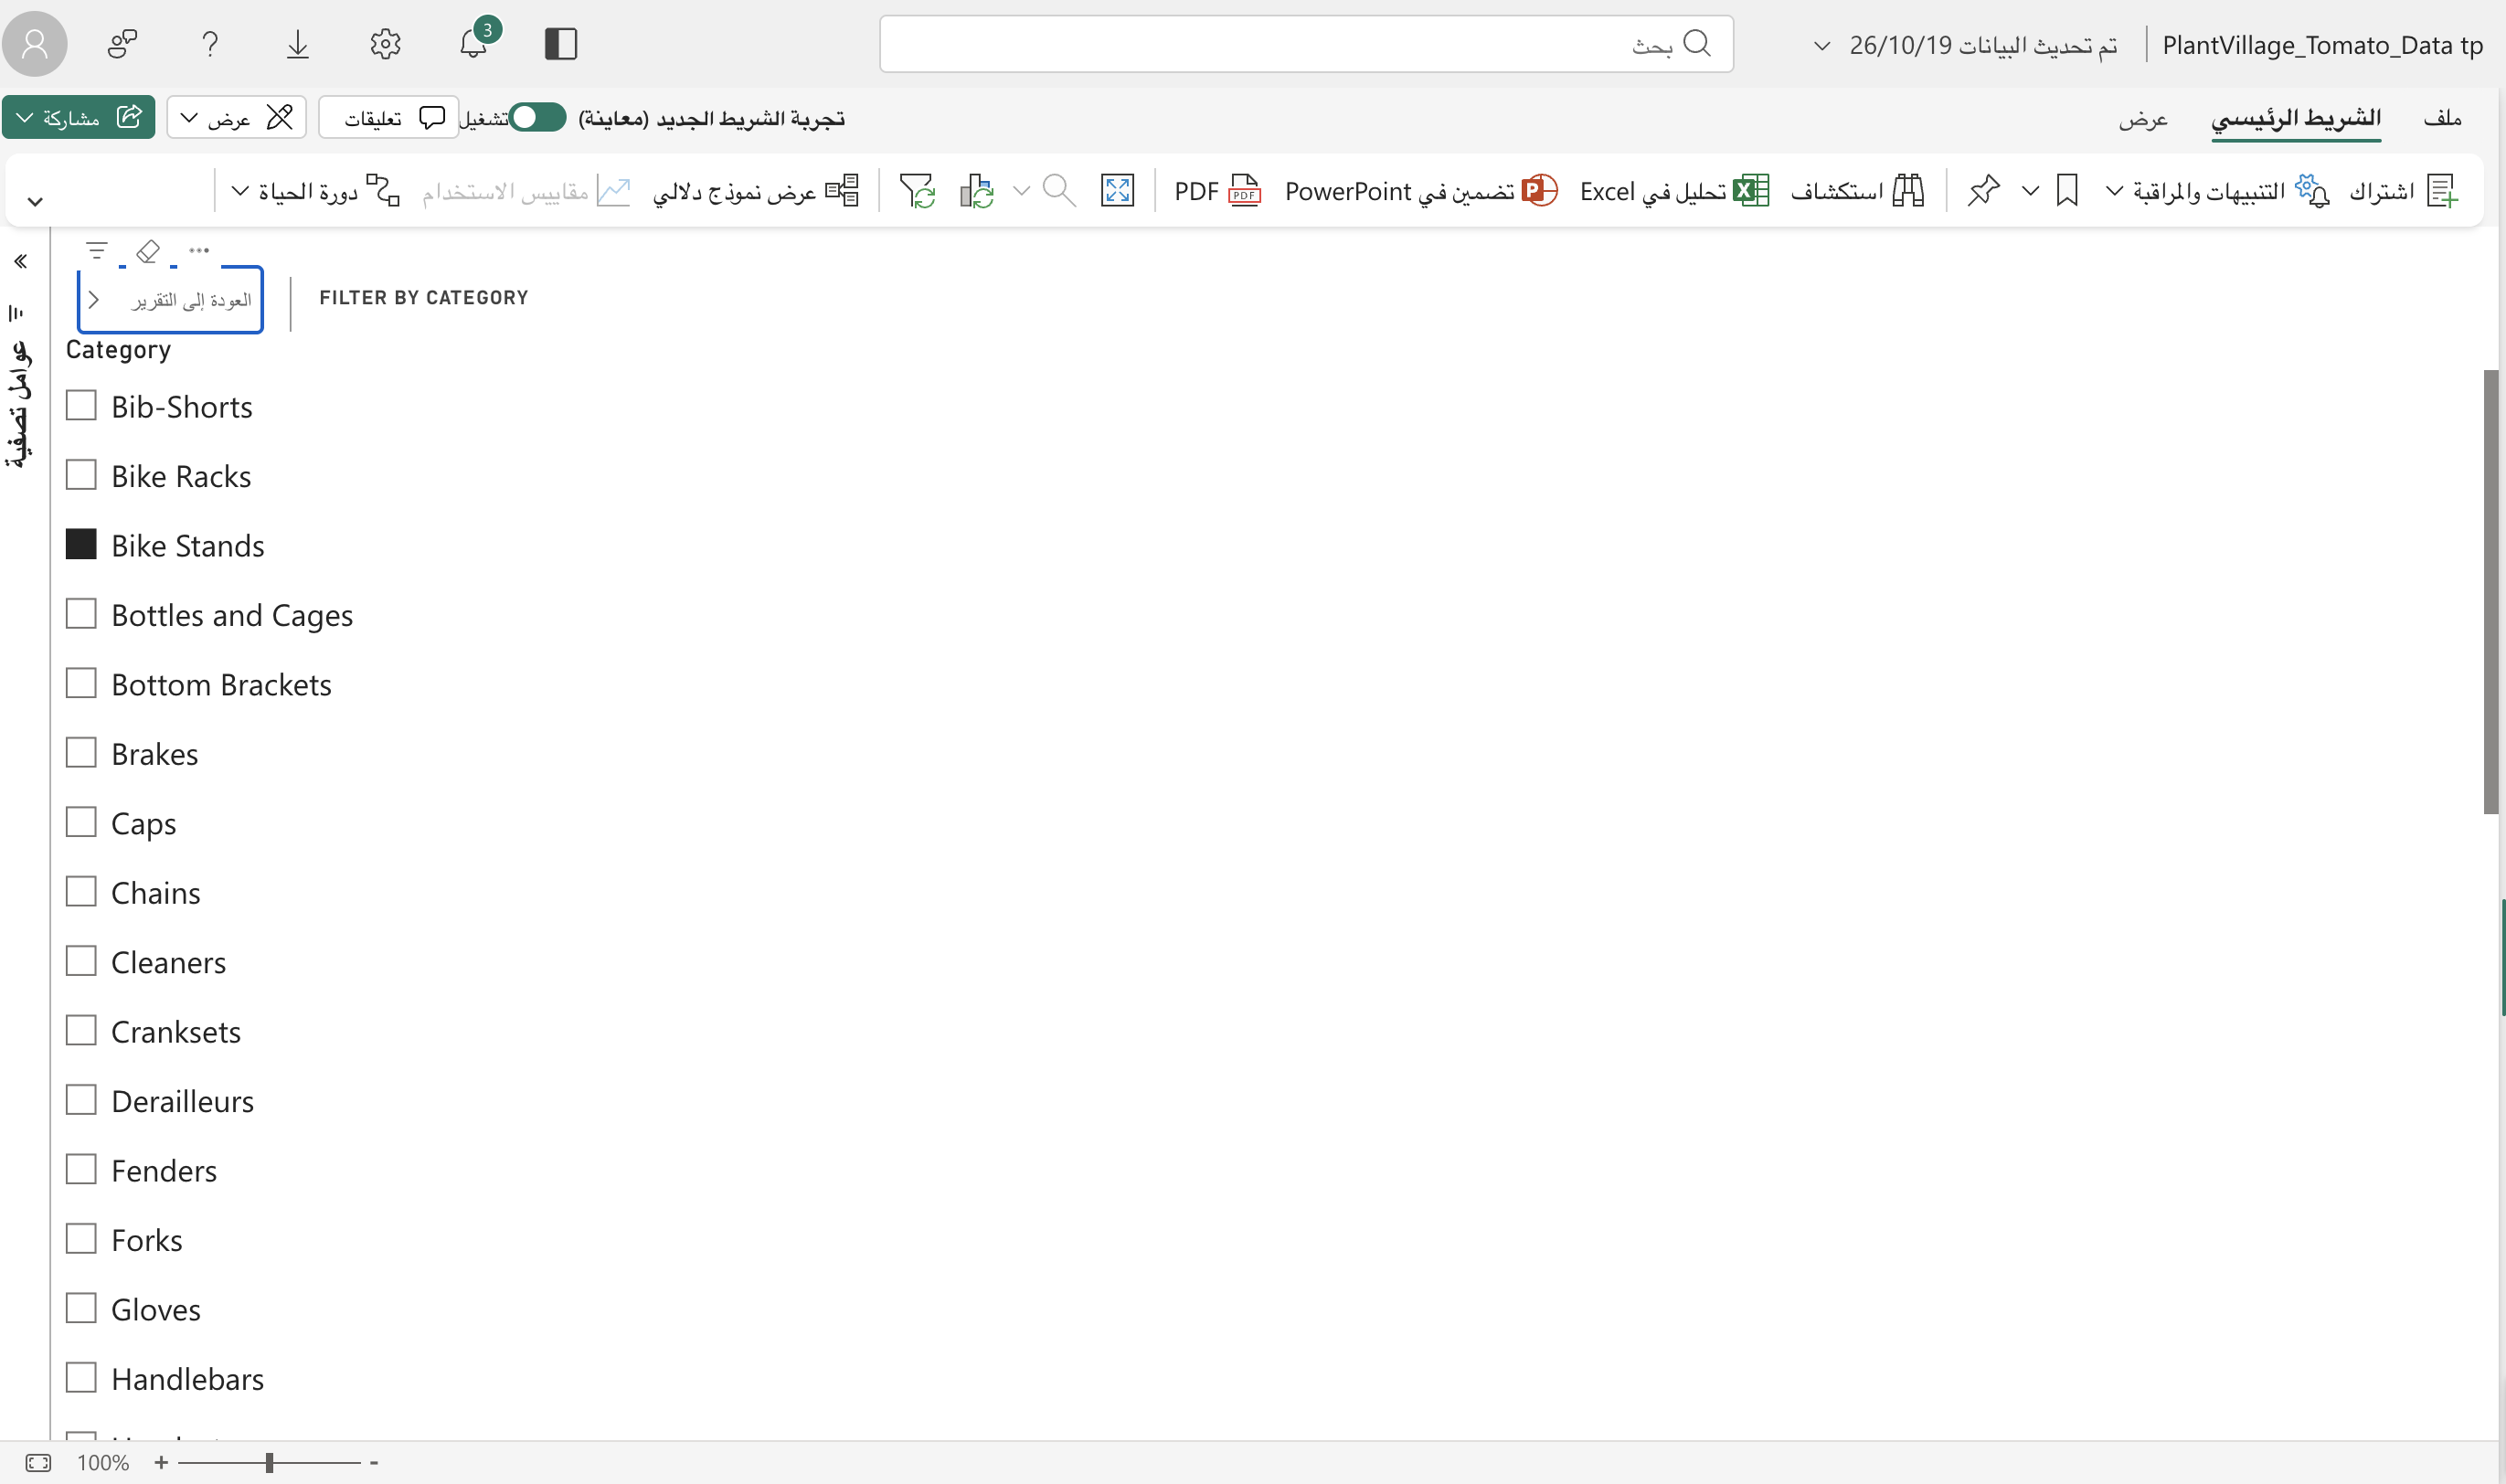

The page's visual inventory and layout, read from the dashboard file:
{"tool":"powerbi","page":{"name":"الصفحة 5","canvas":[1920,1080],"ordinal":4},"visuals":[{"type":"slicer","title":"Filter by Category","fields":{"Values":["products.Category"]},"box":[268.4,152.8,1441,883.6],"z":0}]}

Visuals, with their boxes on the page's 1920x1080 design canvas (x1, y1, x2, y2). These are canvas units, not pixel positions in the 2506x1484 screenshot, which may show the page scaled, cropped or inside an application window:
"Filter by Category" slicer: 268:153:1709:1036
